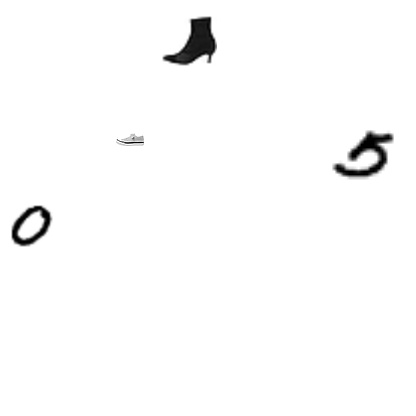0: (2, 196, 58, 252)
5: (324, 113, 408, 197)
Ankle_boot: (161, 13, 217, 69)
Sneaker: (116, 125, 144, 153)
